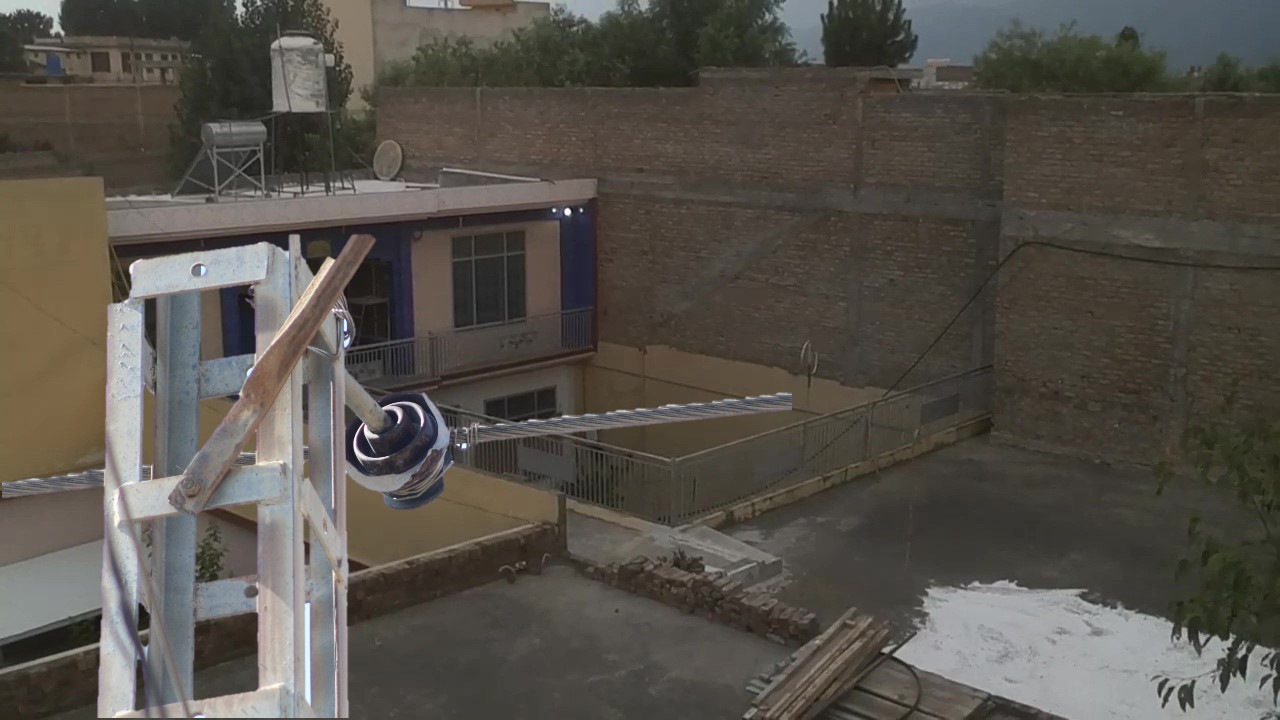defect_pin: (346, 385, 461, 522)
